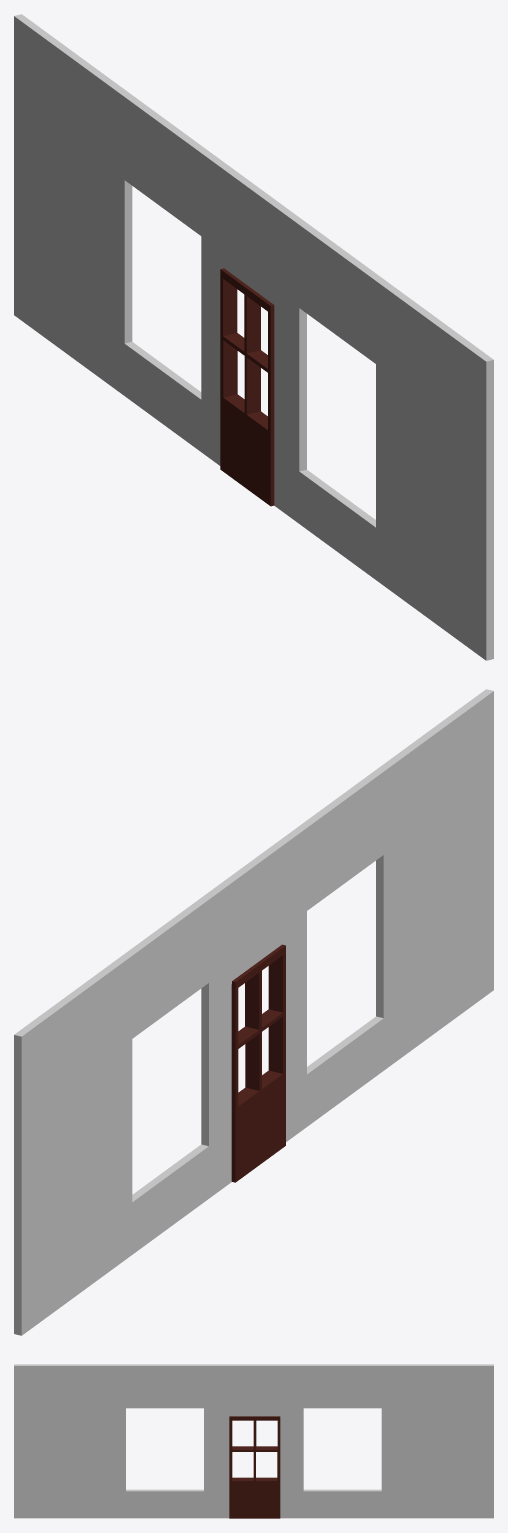
File: WallwithwindowsandDoor.fbx
3 views of the same model, one above another, from view 1: azimuth 30°, elevation 25°; view 2: azimuth 150°, elevation 25°; view 3: azimuth 270°, elevation 25° (orthographic). The views are drawn at different scales.
Visible parts, largest first — view 1: Cube.004, Cube; view 2: Cube.004, Cube; view 3: Cube.004, Cube.
Part boxes in pixels (bbox=[...]): Cube.004: bbox=[14, 14, 493, 660]; Cube: bbox=[220, 268, 274, 506]; Cube.004: bbox=[14, 689, 493, 1335]; Cube: bbox=[231, 944, 285, 1182]; Cube.004: bbox=[14, 1364, 493, 1518]; Cube: bbox=[229, 1416, 280, 1518].
Size of the model in its own units: 26.23 by 527 by 1507.
